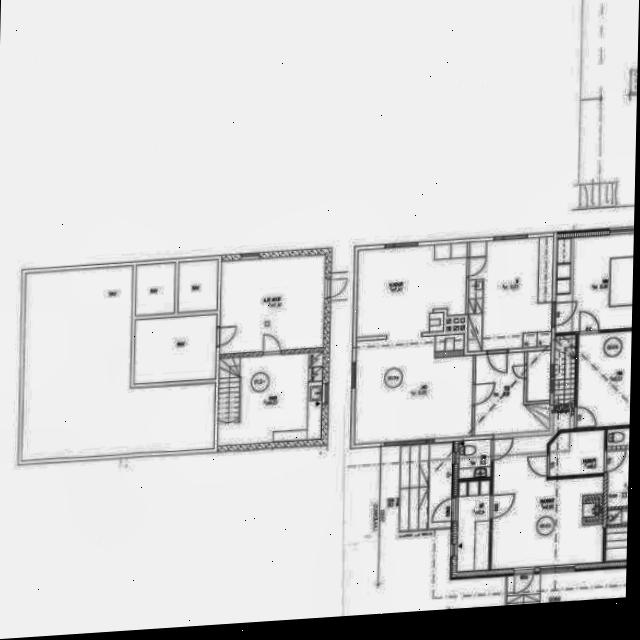room: (354, 241, 475, 447), (213, 255, 330, 354), (211, 352, 328, 446), (467, 235, 552, 354), (554, 232, 634, 335), (130, 315, 220, 384), (576, 330, 632, 430), (456, 479, 489, 573), (545, 430, 607, 477), (605, 427, 630, 508), (458, 439, 490, 479), (526, 350, 550, 402), (605, 526, 627, 562), (605, 509, 629, 526)
